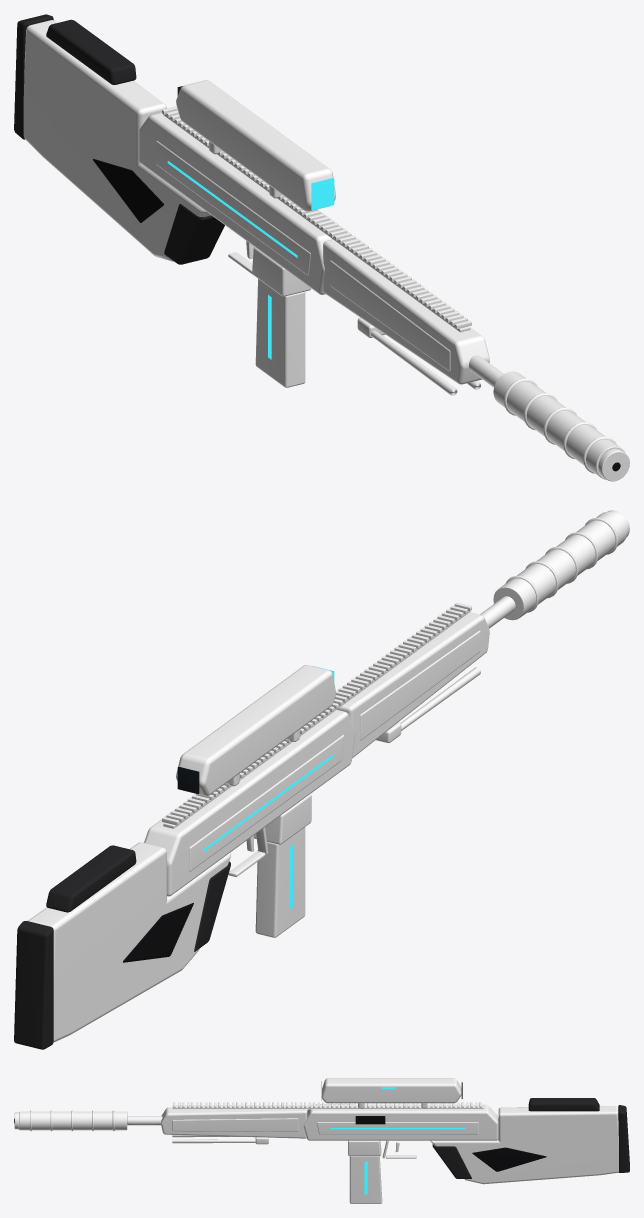
File: dmr.glb
3 views of the same model, one above another, from view 1: azimuth 30°, elevation 25°; view 2: azimuth 150°, elevation 25°; view 3: azimuth 270°, elevation 25° (orthographic). The views are drawn at different scales.
Parts seen in each view (by area): view 1: stock, receiver, scope_body, handguard, suppressor, mag, rail_teeth, side_inlay, handguard_inlay, cheek_rest, grip_pad, thumbhole (+5 smaller); view 2: stock, receiver, scope_body, handguard, butt_pad, suppressor, mag, rail_teeth, side_inlay, handguard_inlay, cheek_rest, thumbhole (+3 smaller); view 3: stock, receiver, scope_body, handguard, suppressor, side_inlay, handguard_inlay, mag, rail_base, rail_teeth, thumbhole, cheek_rest (+7 smaller).
Boxes of the visible parts, <box> form: stock: <box>23,20,210,261</box>; receiver: <box>139,112,347,294</box>; scope_body: <box>176,80,335,211</box>; handguard: <box>323,239,489,384</box>; suppressor: <box>493,371,625,479</box>; mag: <box>255,279,305,387</box>; rail_teeth: <box>162,106,471,328</box>; side_inlay: <box>156,141,310,275</box>; handguard_inlay: <box>330,260,450,371</box>; cheek_rest: <box>46,19,136,84</box>; grip_pad: <box>164,204,224,264</box>; thumbhole: <box>93,159,163,222</box>; stock: <box>28,842,231,1042</box>; receiver: <box>144,710,355,896</box>; scope_body: <box>176,665,335,796</box>; handguard: <box>337,612,489,757</box>; butt_pad: <box>14,921,53,1049</box>; suppressor: <box>493,511,626,620</box>; mag: <box>255,827,305,937</box>; rail_teeth: <box>162,602,471,825</box>; side_inlay: <box>189,735,344,871</box>; handguard_inlay: <box>360,630,480,740</box>; cheek_rest: <box>46,845,136,912</box>; thumbhole: <box>123,903,193,962</box>; stock: <box>430,1106,618,1184</box>; receiver: <box>303,1104,498,1140</box>; scope_body: <box>321,1078,461,1103</box>; handguard: <box>161,1107,307,1138</box>; suppressor: <box>19,1111,127,1130</box>; side_inlay: <box>316,1122,478,1134</box>; handguard_inlay: <box>172,1118,298,1131</box>; mag: <box>349,1156,382,1203</box>; rail_base: <box>172,1105,483,1109</box>; rail_teeth: <box>173,1102,481,1107</box>; thumbhole: <box>472,1147,546,1171</box>; cheek_rest: <box>528,1098,599,1111</box>.
Size of the model in its own units: 0.0482 by 0.296 by 1.37.
